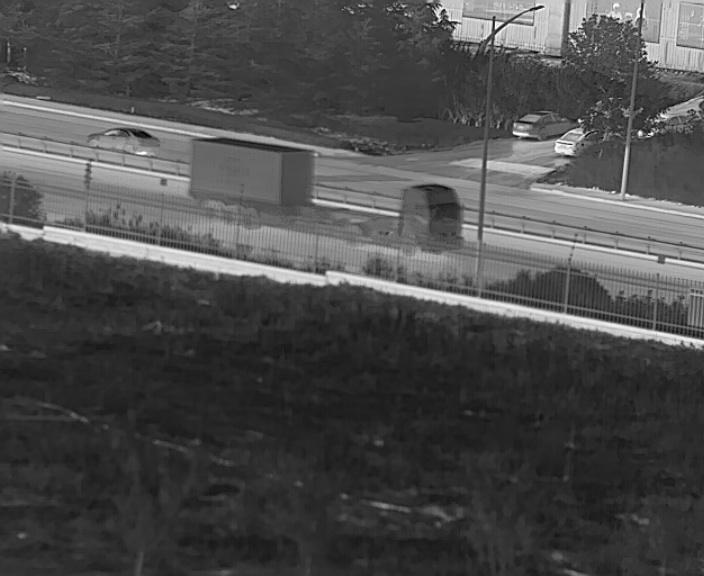vehicle: (188, 139, 463, 253), (83, 126, 160, 156), (512, 112, 568, 140), (553, 126, 587, 156)
